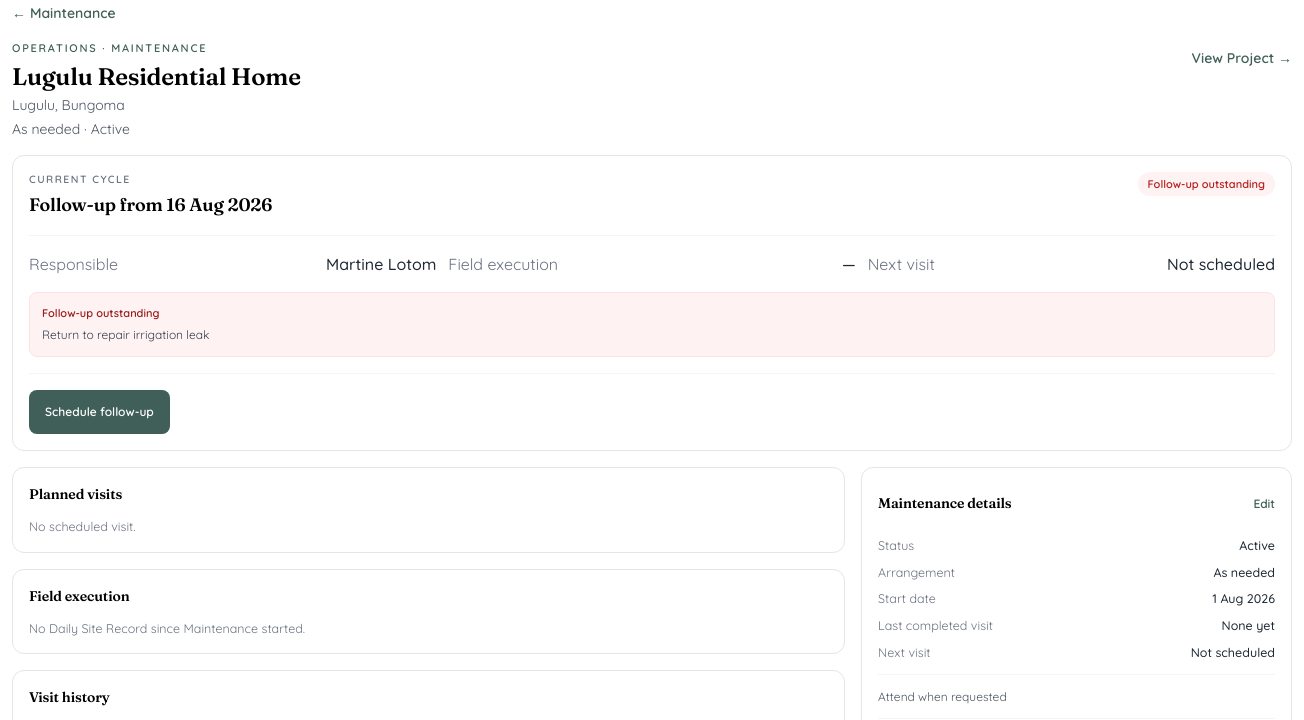
Test: Maintenance detail scheduling and RBAC › surfaces an outstanding follow-up and prefills its work
This screenshot has width=1304, height=720.
Expected: the text "Follow-up outstanding" in the row of "Follow-up from 16 Aug 2026" is shown, [1148,176,1265,190]
Expected: the text "Return to repair irrigation leak" is shown, [42,327,210,342]
Click the button "Schedule follow-up": (99, 412) [29,390,170,434]
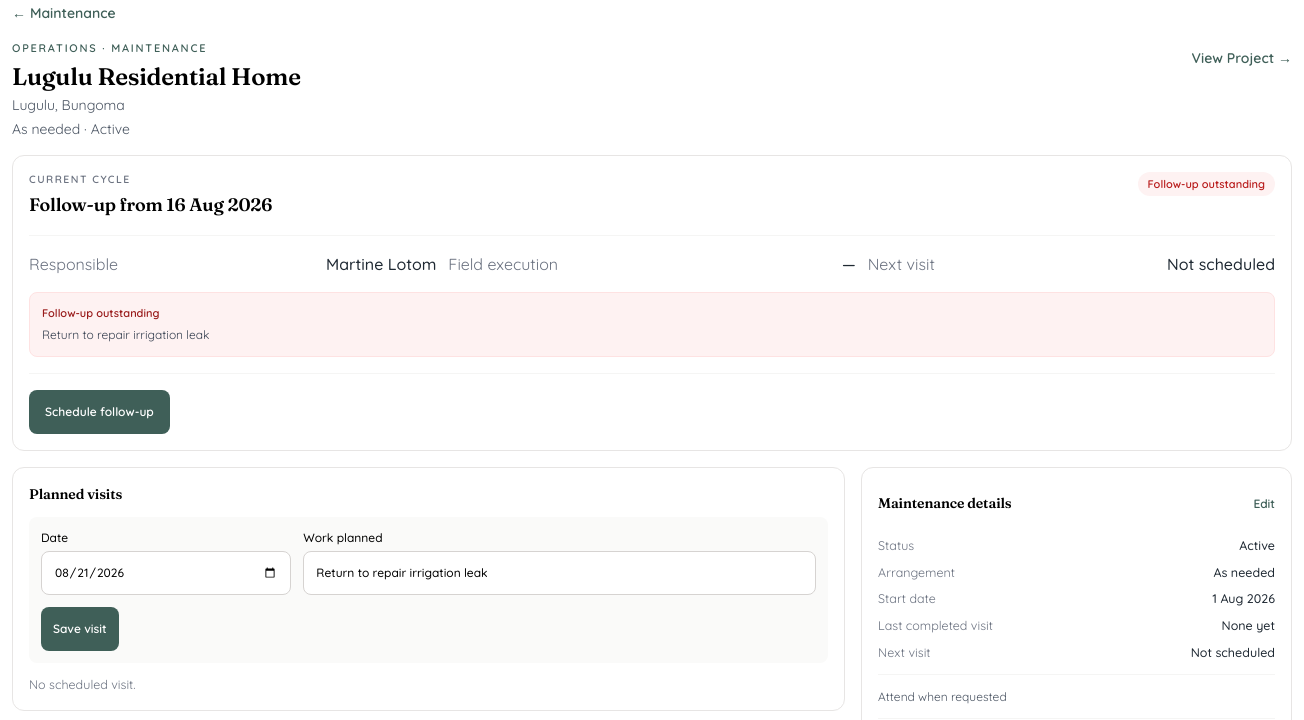
Result: the field labelled "Work planned" holds "Return to repair irrigation leak" at [303,551,816,595]
Result: the button "Save visit" is shown at [41,607,119,651]
